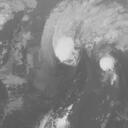cyclone: (52, 35, 81, 66)
